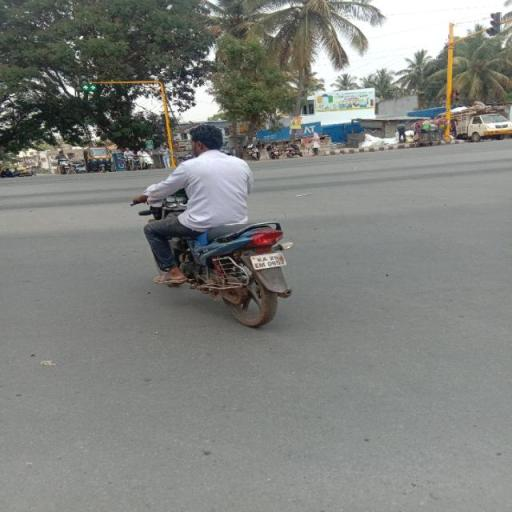bike: (128, 124, 305, 332)
numberplate: (250, 250, 288, 272)
withouthelmet: (192, 124, 220, 150)
